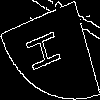H: (25, 25, 69, 75)
